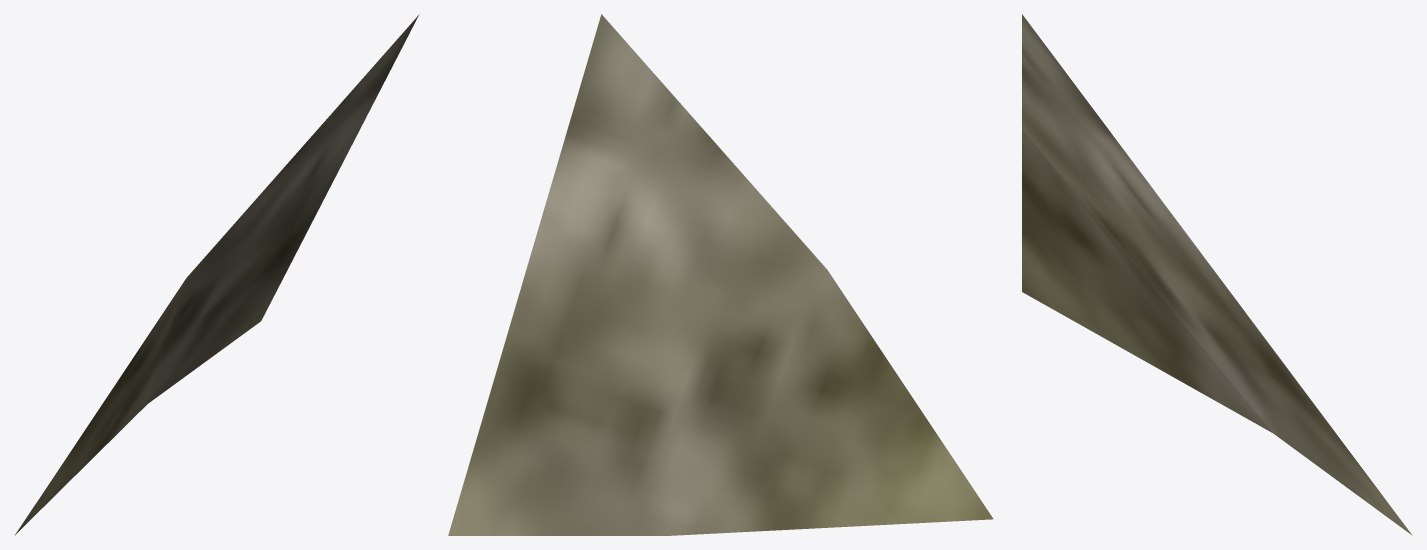
3 views of the same model, side by side, from view 1: azimuth 30°, elevation 25°; view 2: azimuth 150°, elevation 25°; view 3: azimuth 270°, elevation 25° (orthographic). The views are drawn at different scales.
Size of the model in its own units: 0.3736 by 0.3728 by 0.2529.
1 material, 1 textured.
